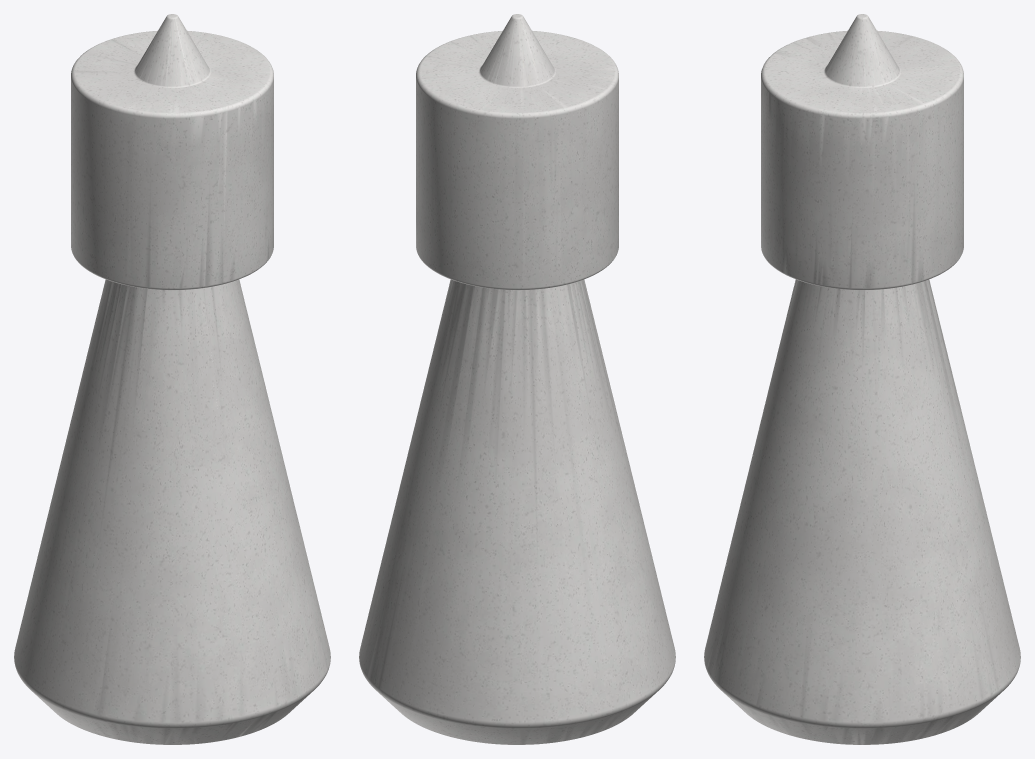
Rendered from queen-white-hd.glb.
3 renders of one model, left to right at view 1: azimuth 30°, elevation 25°; view 2: azimuth 150°, elevation 25°; view 3: azimuth 270°, elevation 25°, orthographic.
Parts seen in each view (by area): view 1: 02_dama_bila; view 2: 02_dama_bila; view 3: 02_dama_bila.
Boxes of the visible parts, <box> form: 02_dama_bila: <box>14,14,330,744</box>; 02_dama_bila: <box>359,14,675,744</box>; 02_dama_bila: <box>704,14,1020,744</box>.
Bounding box in the file's own units: 0.65 × 1.53 × 0.65.
1 material, 1 textured.
